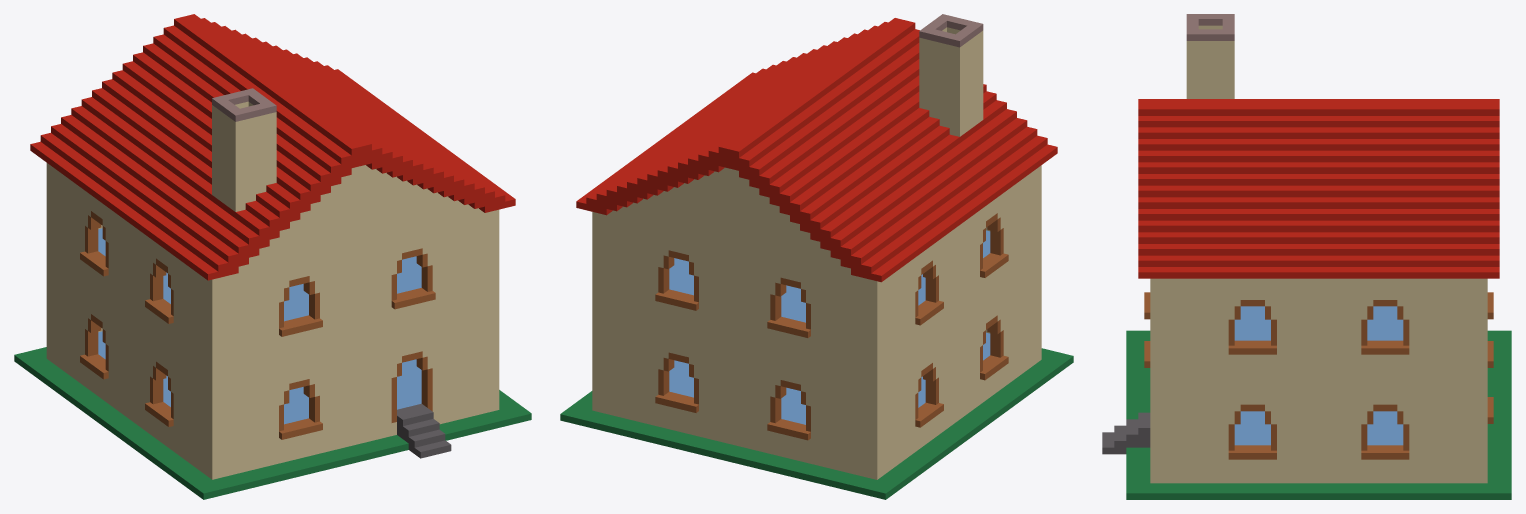
Rendered from House.gltf.
The picture shows the model from 3 angles, left to right: view 1: azimuth 30°, elevation 25°; view 2: azimuth 150°, elevation 25°; view 3: azimuth 270°, elevation 25°; orthographic projection. The views are drawn at different scales.
Parts seen in each view (by area): view 1: House; view 2: House; view 3: House.
Boxes of the visible parts, x1,y1,x2,y2 form: House: (14, 14, 531, 499); House: (560, 14, 1073, 499); House: (1102, 14, 1511, 499).
Size of the model in its own units: 12.96 by 13.12 by 13.77.
